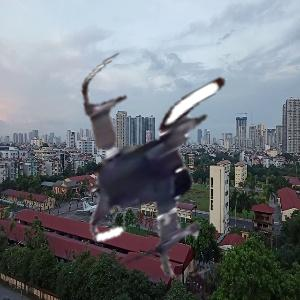drone: (44, 37, 296, 289)
